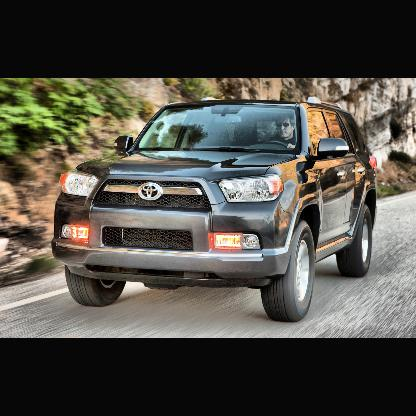Toyota 4Runner SUV 2012: (54, 96, 379, 323)
